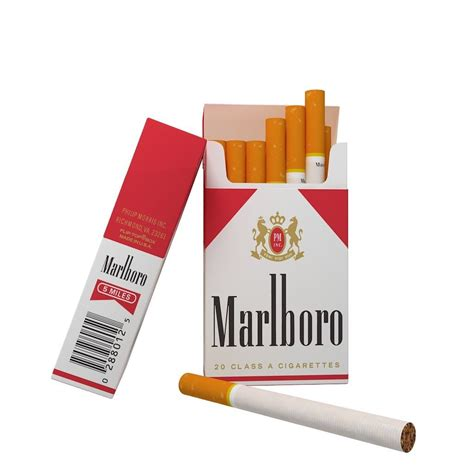cigarette: (49, 116, 208, 401), (199, 103, 349, 382), (178, 371, 417, 454), (305, 88, 326, 184), (284, 104, 307, 184), (264, 117, 286, 184), (226, 139, 247, 184), (246, 139, 266, 184)
